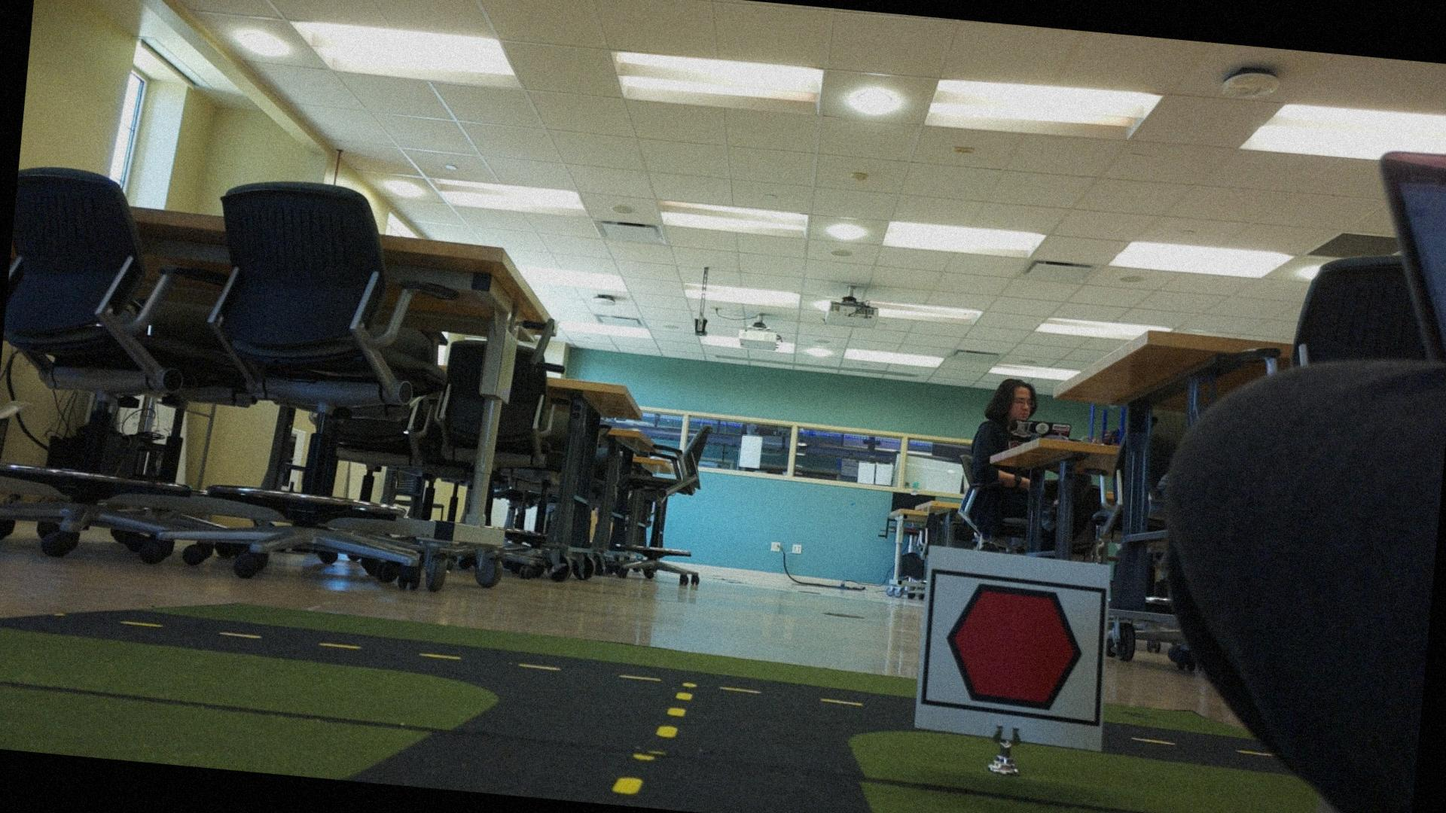stop: (928, 574, 1100, 717)
yellowline: (612, 676, 694, 804)
